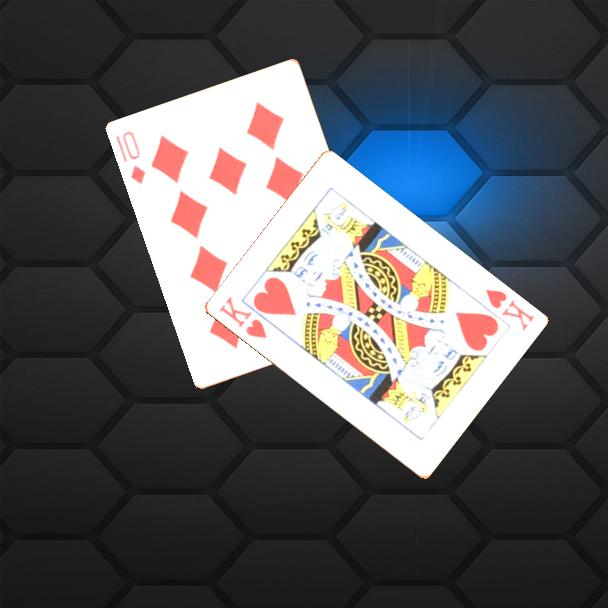d10: (112, 128, 149, 187)
h13: (481, 286, 537, 334), (215, 293, 269, 342)
